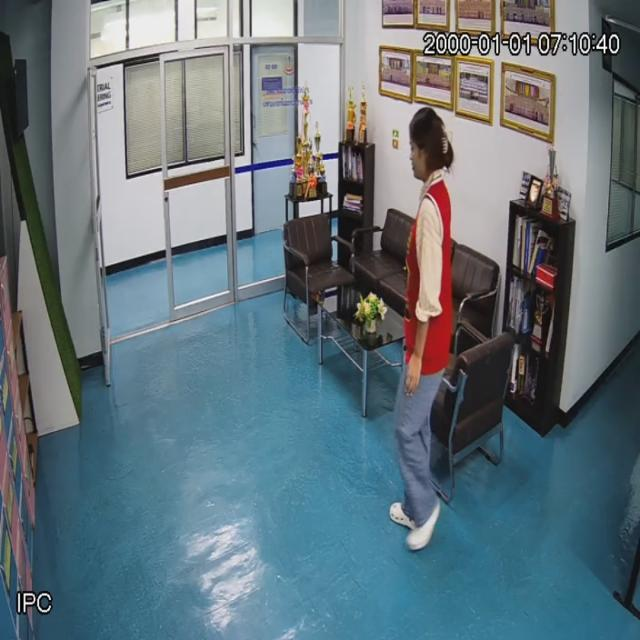normal: (379, 103, 455, 558)
